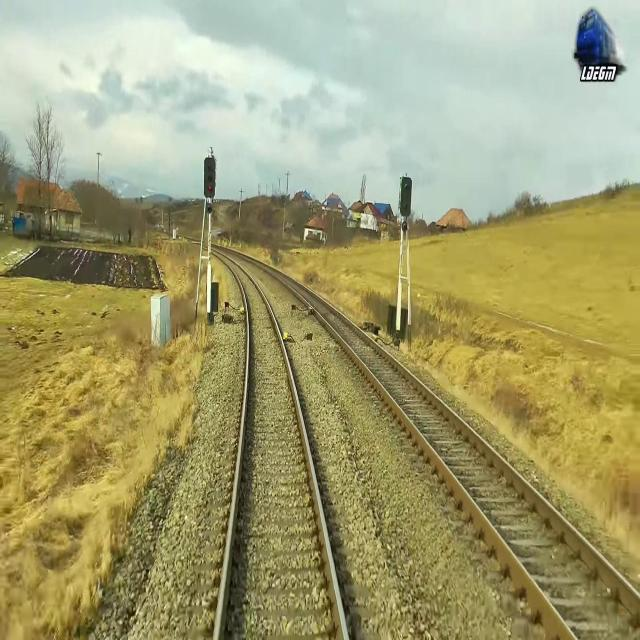rail-track: (255, 260, 640, 639), (211, 248, 344, 639)
